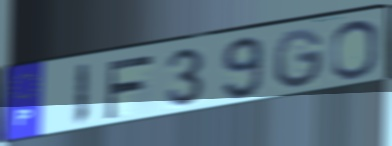3: (164, 45, 208, 110)
9: (220, 34, 266, 102)
F: (103, 52, 156, 122)
G: (272, 27, 326, 91)
I: (72, 61, 92, 128)
O: (330, 18, 381, 82)
